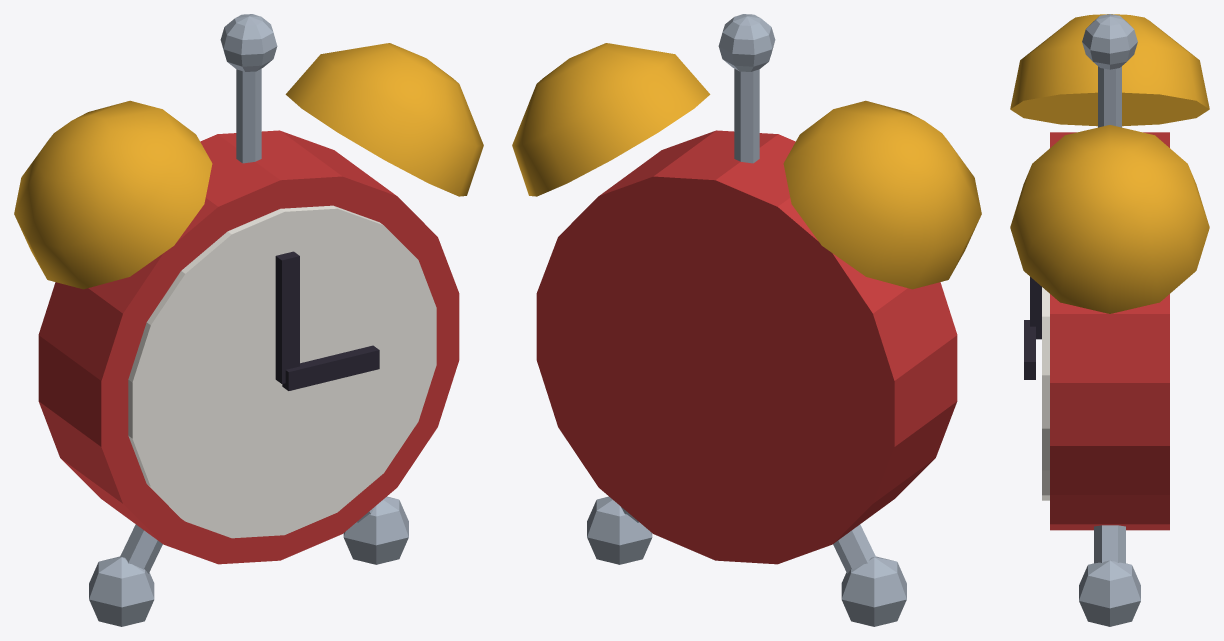
File: clock-desk.glb
The picture shows the model from 3 angles, left to right: view 1: azimuth 30°, elevation 25°; view 2: azimuth 150°, elevation 25°; view 3: azimuth 270°, elevation 25°; orthographic projection. The views are drawn at different scales.
Visible parts, largest first — view 1: Clock face, Clock body, Clock bells, Clock feet, Clock hands, Clock hammer; view 2: Clock body, Clock bells, Clock feet, Clock hammer; view 3: Clock bells, Clock body, Clock feet, Clock hammer, Clock face, Clock hands.
Boxes of the visible parts, x1,y1,x2,y2 form: Clock face: [128, 205, 436, 538]; Clock body: [38, 130, 459, 564]; Clock bells: [14, 43, 483, 289]; Clock feet: [89, 496, 408, 626]; Clock hands: [275, 251, 379, 390]; Clock hammer: [220, 14, 277, 163]; Clock body: [536, 130, 957, 564]; Clock bells: [512, 43, 981, 289]; Clock feet: [587, 496, 906, 626]; Clock hammer: [718, 14, 775, 163]; Clock bells: [1010, 14, 1209, 313]; Clock body: [1050, 132, 1169, 530]; Clock feet: [1079, 525, 1140, 626]; Clock hammer: [1082, 14, 1137, 127]; Clock face: [1042, 287, 1049, 500]; Clock hands: [1024, 277, 1041, 379].
Bounding box in the file's own units: 0.2424 × 0.304 × 0.1.
